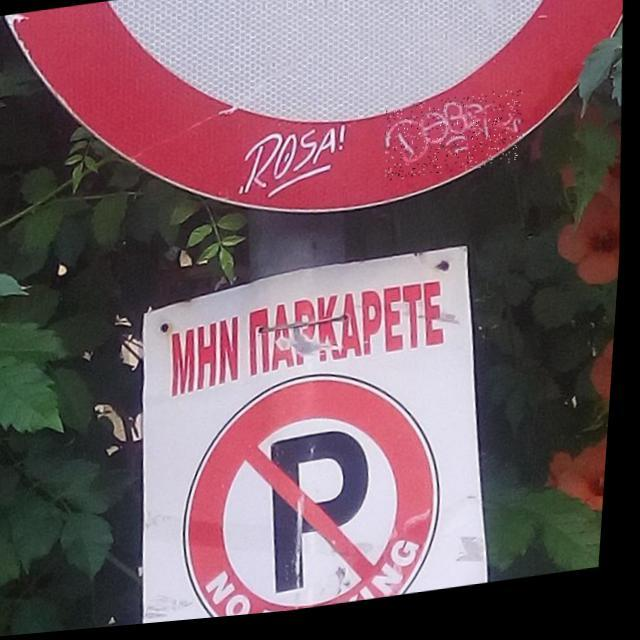-: (384, 97, 530, 189), (237, 125, 358, 211)
